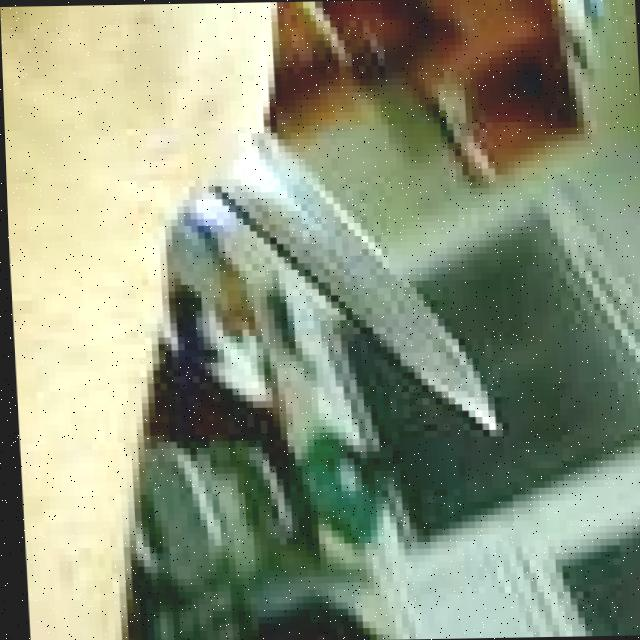knife: (233, 138, 500, 440)
